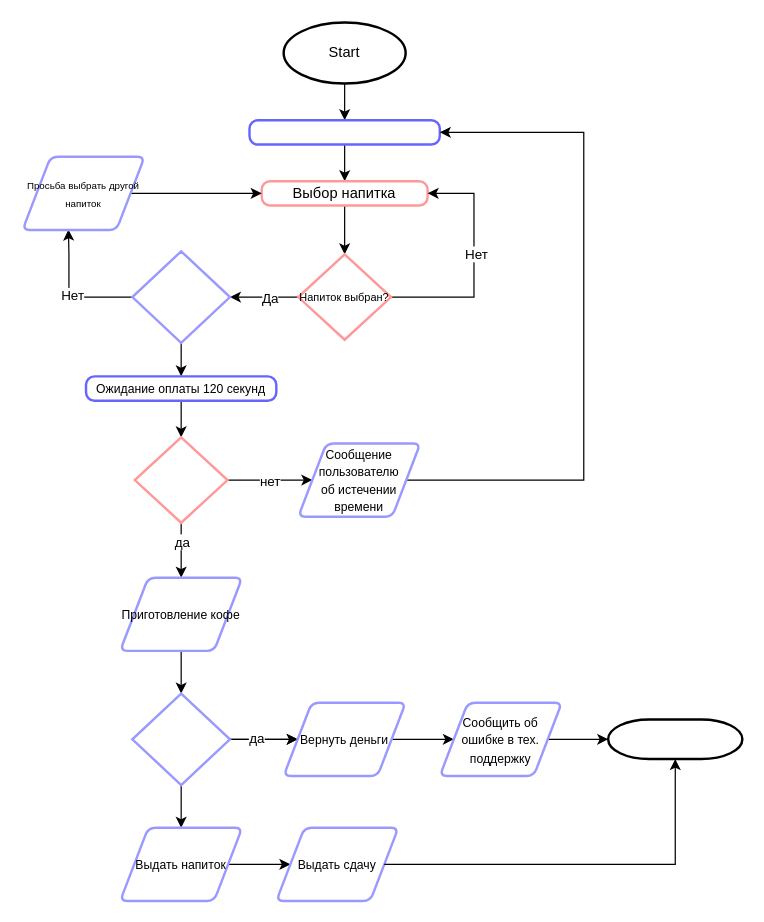
This 764x922 diagram has some shape labels left out. Each missing label, with the box of its shape:
Возникла ошибка?: (131, 692, 231, 786)
Завершение: (606, 718, 743, 760)
Ингредиенты есть?: (131, 249, 231, 343)
Ожидание пользователя: (248, 118, 440, 145)
Оплата получена?: (133, 436, 228, 523)
